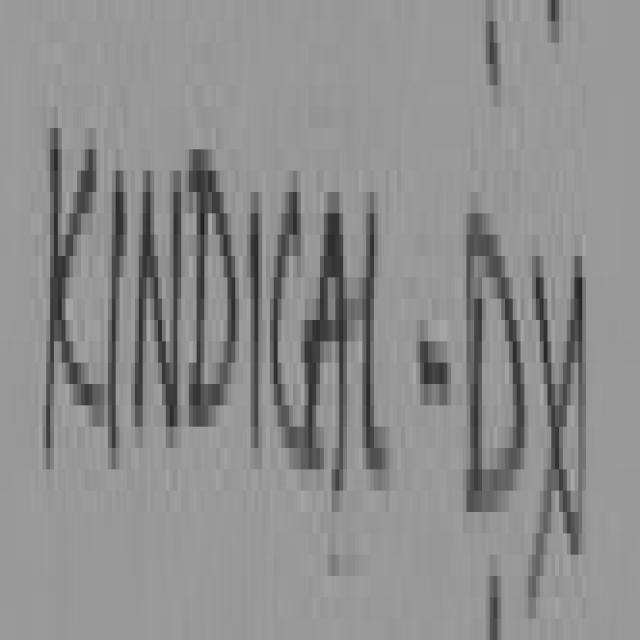A: (308, 213, 347, 480)
C: (274, 192, 308, 469)
D: (470, 213, 528, 501), (193, 149, 239, 416)
I: (108, 171, 127, 459), (250, 213, 262, 443)
K: (46, 128, 104, 437)
L: (366, 213, 386, 469)
N: (135, 171, 181, 427)
X: (532, 256, 586, 608)
